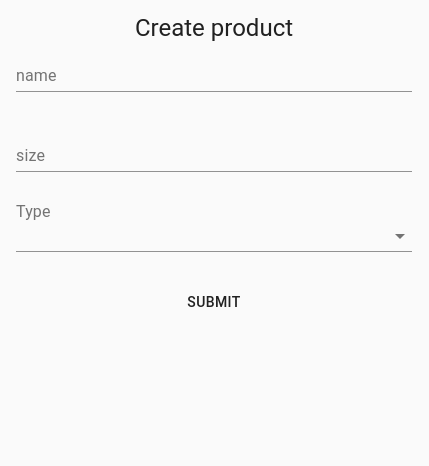
Test: <Form /> › when the user submits the form and the server returns an invalid request error › should the form page must display the error message “The form is invalid, the fields name, size, type are required”
Click the button "Submit".
click(214, 302)  # box [16,284,412,320]
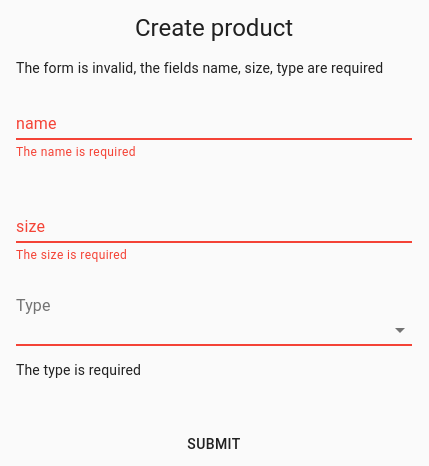
Now the text "The form is invalid, the fields name, size, type are required" is shown, box [16,58,412,78]
